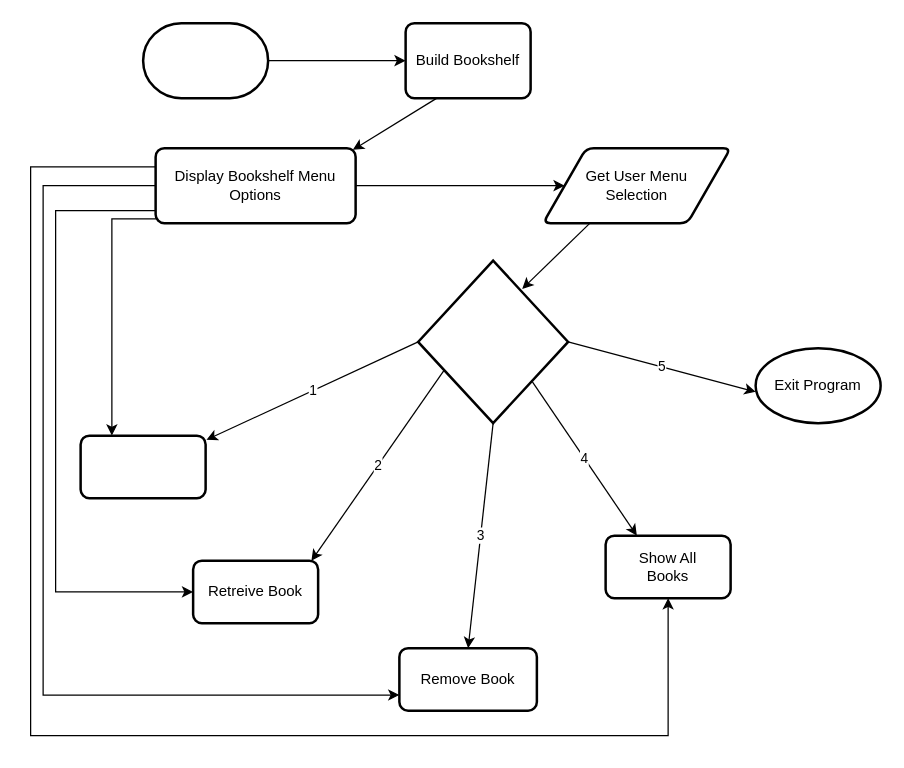
Image size: 904x768. Some labels were removed from this diagram. Each missing label, with the box of its shape:
Add Book: (79, 434, 206, 499)
Start: (141, 21, 269, 99)
What option?: (416, 259, 569, 424)
